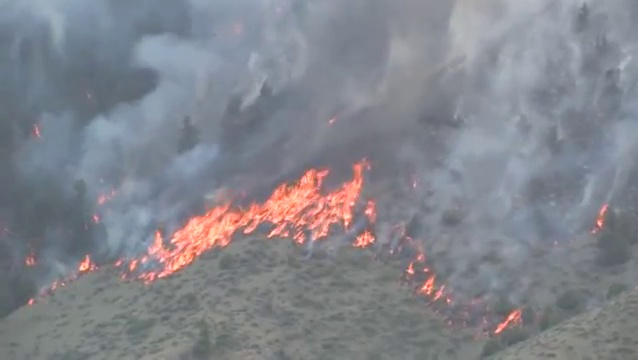fire: (146, 196, 257, 267), (272, 170, 360, 226), (358, 231, 373, 244)
